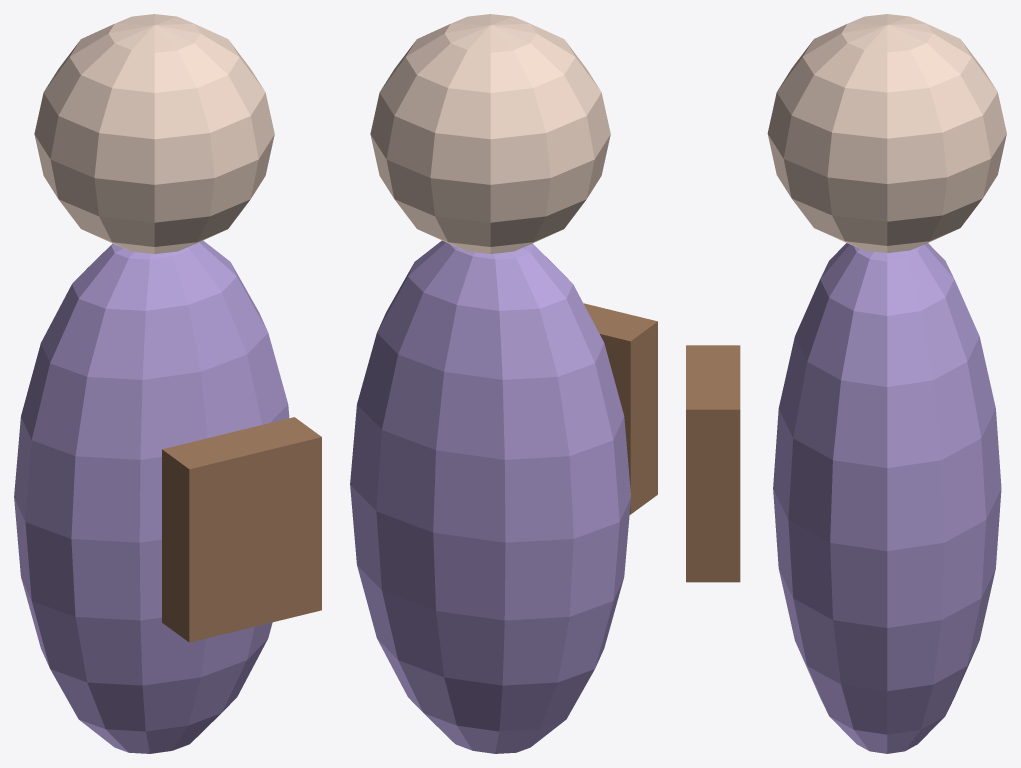
File: merchant.glb
The picture shows the model from 3 angles, left to right: view 1: azimuth 30°, elevation 25°; view 2: azimuth 150°, elevation 25°; view 3: azimuth 270°, elevation 25°; orthographic projection.
Parts seen in each view (by area): view 1: Merchant; view 2: Merchant; view 3: Merchant.
Part boxes in pixels (<box>): Merchant: <box>14,14,321,753</box>; Merchant: <box>350,14,657,753</box>; Merchant: <box>686,14,1006,753</box>.
Bounding box in the file's own units: 0.546 × 1.46 × 0.59.
